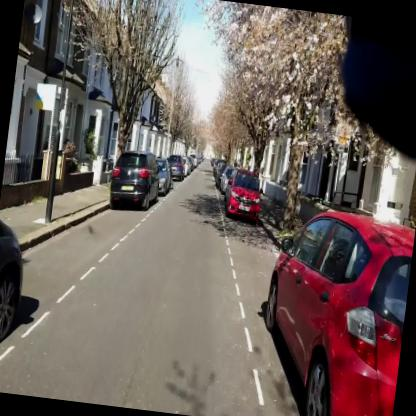car: (252, 200, 415, 415), (108, 148, 164, 210), (223, 167, 266, 228), (151, 156, 172, 198), (165, 154, 186, 184), (218, 164, 233, 195)
